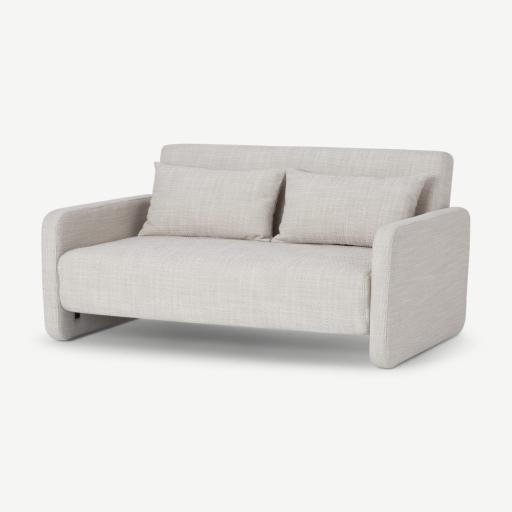back_cushion: (139, 163, 424, 246)
left_arm: (370, 208, 470, 368)
right_arm: (42, 196, 149, 340)
seat_cushion: (58, 236, 371, 334)
two-seater: (0, 0, 511, 512)
